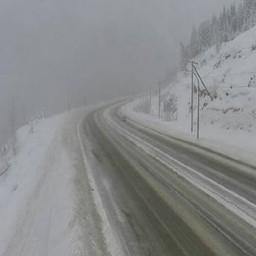Snow: (103, 101, 255, 227), (0, 98, 121, 255), (119, 29, 255, 166), (66, 113, 126, 255)
